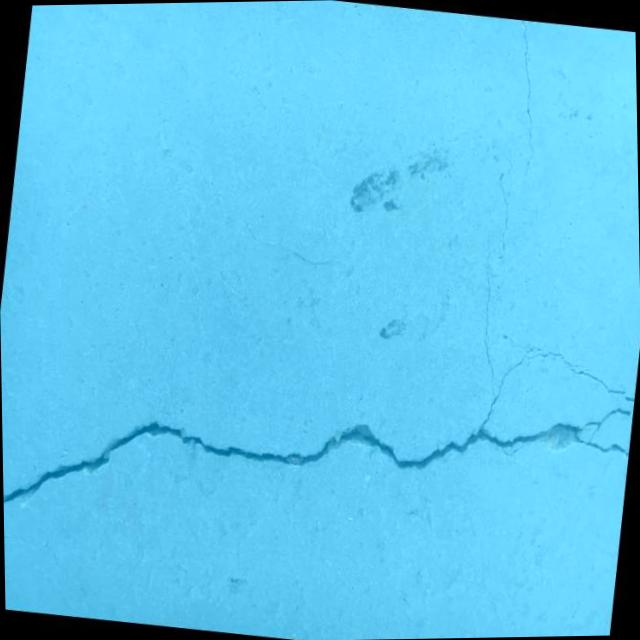crack: (0, 172, 640, 597), (502, 19, 550, 176), (38, 520, 78, 590), (488, 172, 514, 263)
